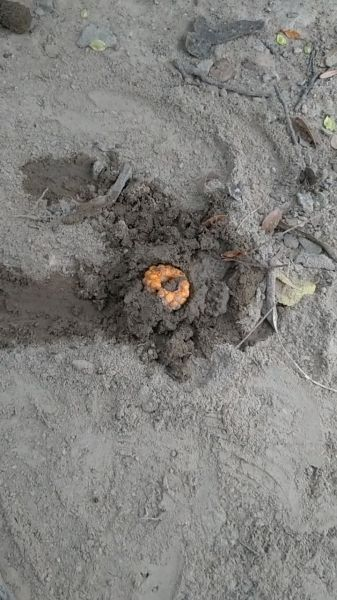eggs: (139, 258, 200, 312)
